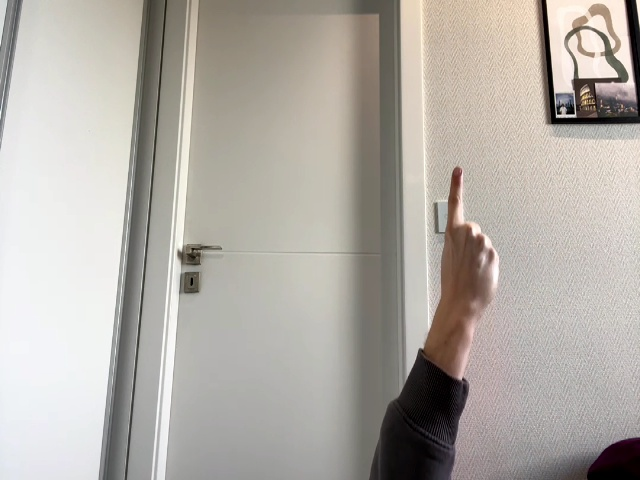D: (441, 166, 499, 318)
